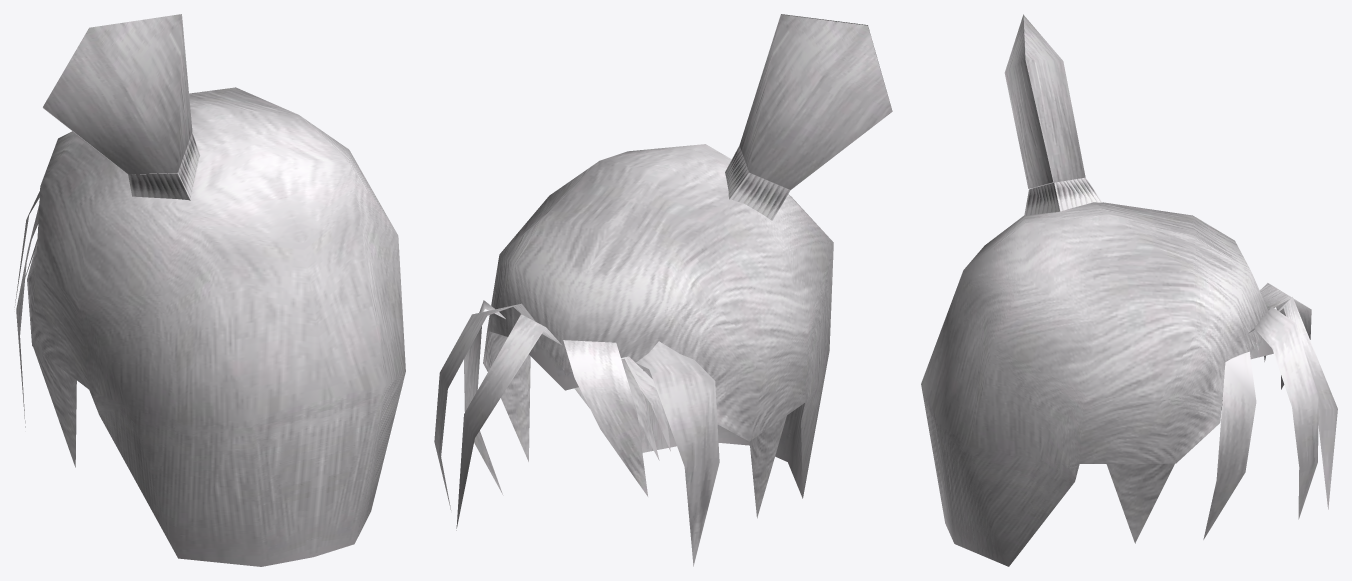
Rendered from Martial arts male hair 24.glb.
The picture shows the model from 3 angles, left to right: view 1: azimuth 30°, elevation 25°; view 2: azimuth 150°, elevation 25°; view 3: azimuth 270°, elevation 25°; orthographic projection. The views are drawn at different scales.
Visible parts, largest first — view 1: Object01_0; view 2: Object01_0; view 3: Object01_0.
Boxes of the visible parts, x1,y1,x2,y2 form: Object01_0: [14, 14, 405, 566]; Object01_0: [434, 14, 892, 566]; Object01_0: [921, 14, 1337, 566].
Bounding box in the file's own units: 0.1968 × 0.282 × 0.2399.
1 material, 1 textured.
